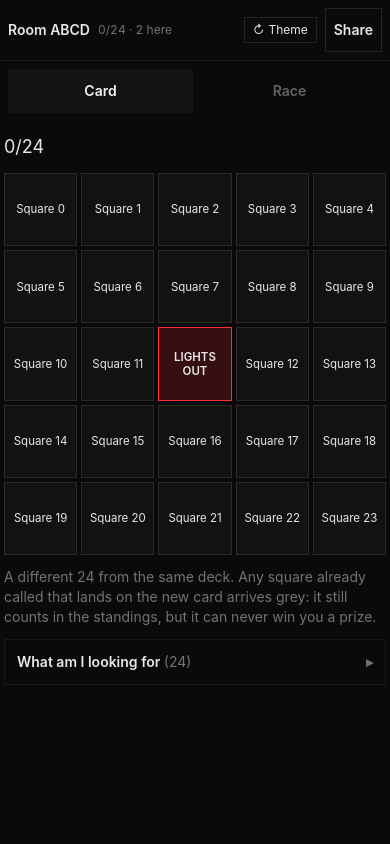
Test case: the card and the race as two surfaces › opens on the card, with the race a tap away and not before
Expected: the list named "Your card" is shown, [4,173,386,555]
Expected: the element named "Room" is shown, [0,61,389,121]
What coordinates should you click on to do the following:
click the tab "Race"
I would click on:
 (290, 91)
Its box is [197,69,382,113].
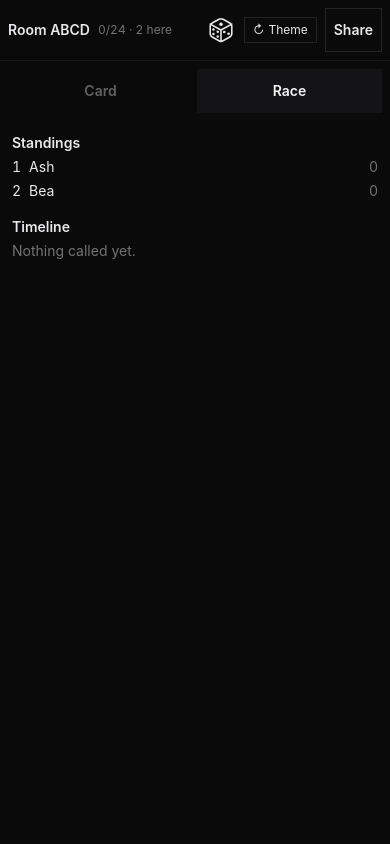
Expected: the heading "Standings" is shown, [12,134,80,151]
Expected: the heading "Timeline" is shown, [12,218,70,235]
